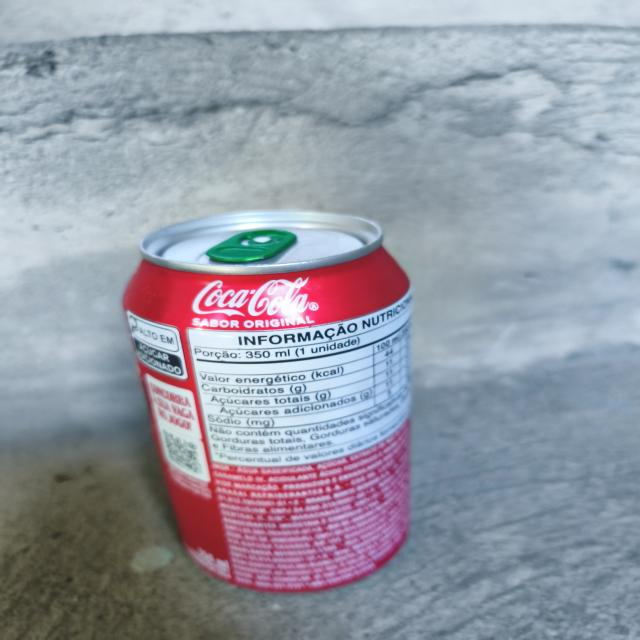Coca Cola: (111, 207, 458, 590)
